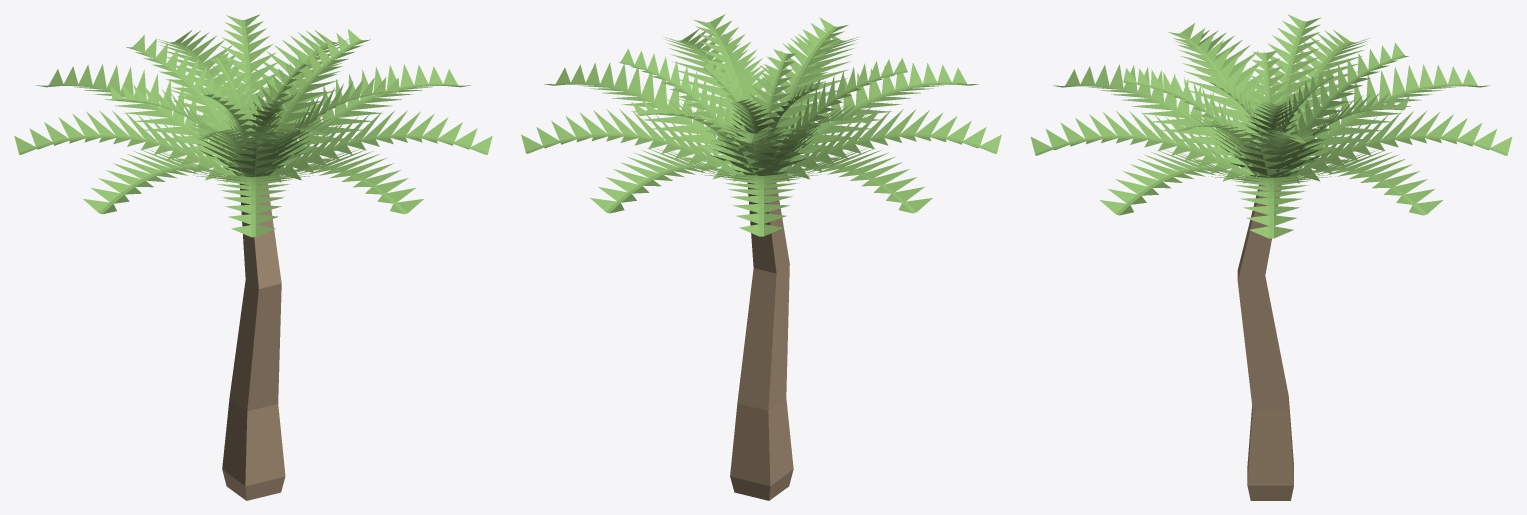
Rendered from palm_final.glb.
3 renders of one model, left to right at view 1: azimuth 30°, elevation 25°; view 2: azimuth 150°, elevation 25°; view 3: azimuth 270°, elevation 25°, orthographic.
Parts seen in each view (by area): view 1: PalmFinalExport; view 2: PalmFinalExport; view 3: PalmFinalExport.
Boxes of the visible parts, x1,y1,x2,y2 form: PalmFinalExport: (14,14,492,500); PalmFinalExport: (521,14,1001,500); PalmFinalExport: (1030,14,1512,500).
Bounding box in the file's own units: 4.04 × 3.91 × 4.1.
